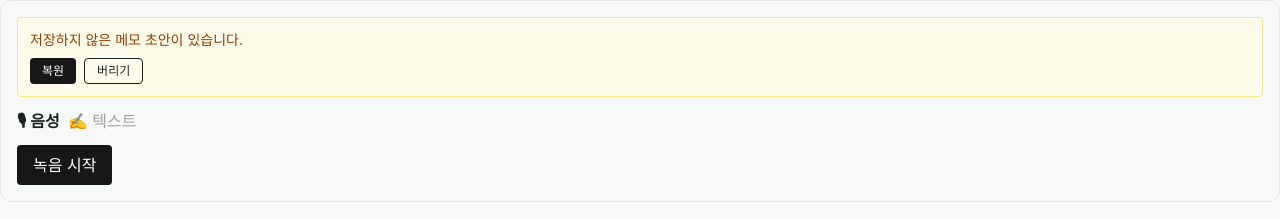
Test: MemoComposer — 초안 복원 배너 › 버리기 클릭 시 배너가 사라지고 초안이 삭제된다
The image size is (1280, 219).
Click the button "버리기" at x=114, y=71, box 84,58 -> 143,84
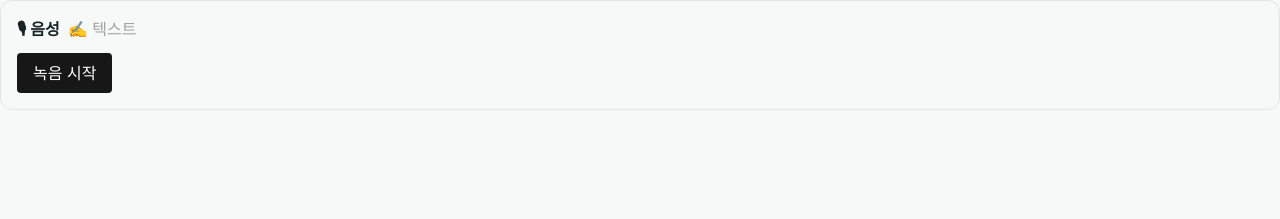
expect the text "저장하지 않은 메모 초안이 있습니다." is gone: met
